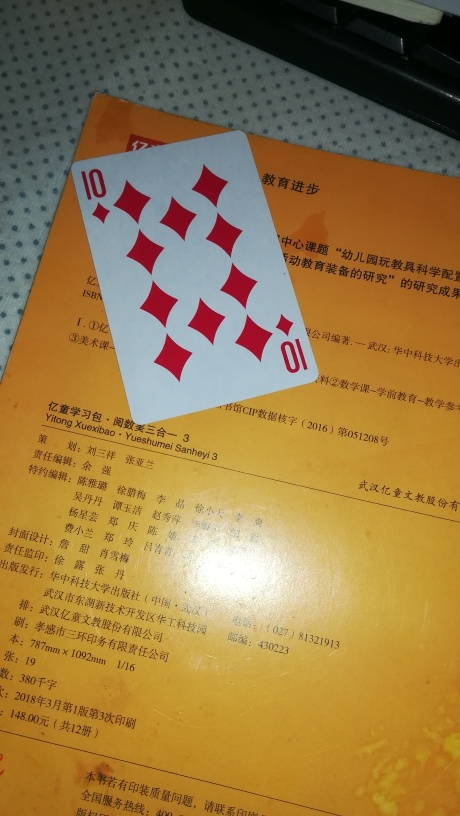fk 10: (71, 130, 321, 424)
